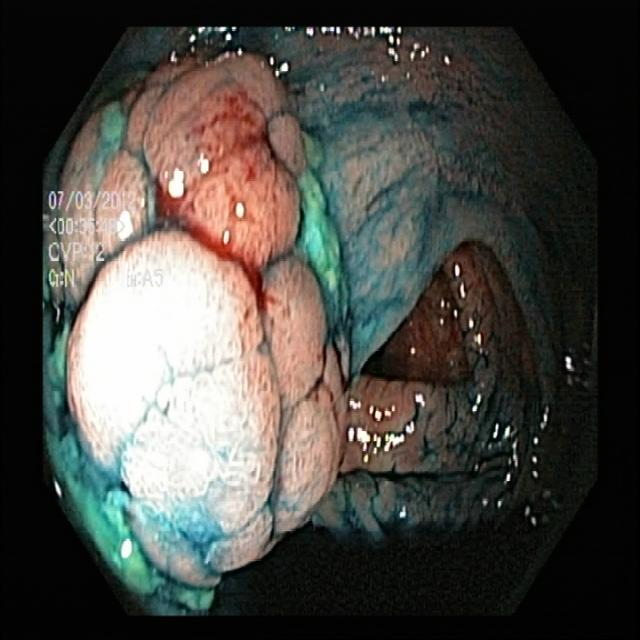dyed-lifted-polyps: (41, 40, 358, 620)
